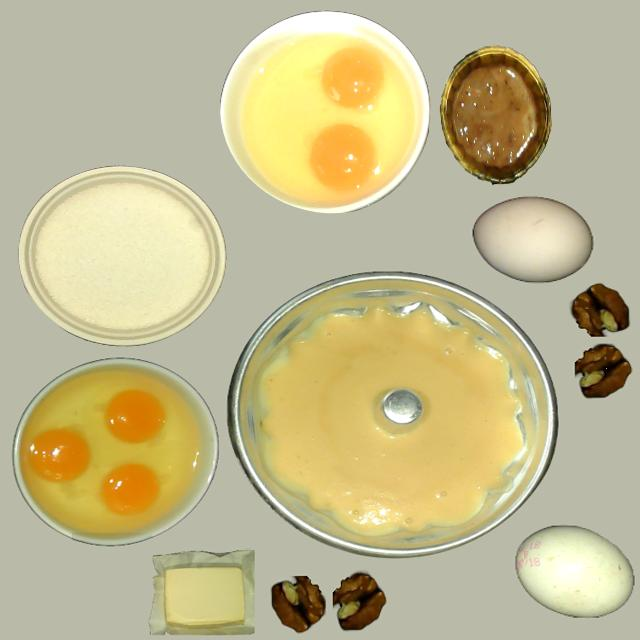Egg: (310, 124, 377, 190), (321, 46, 385, 108), (26, 429, 90, 482), (100, 462, 160, 516), (105, 390, 165, 444)
Sugar: (18, 167, 223, 346)
